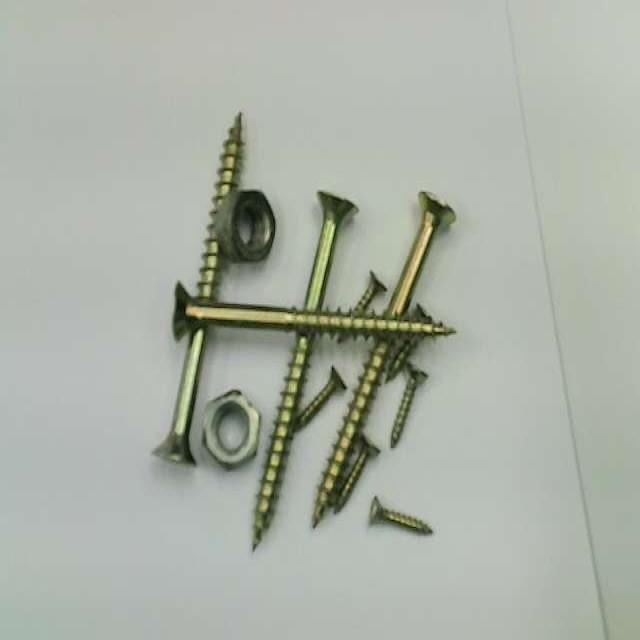Parafuso: (173, 283, 454, 339), (314, 339, 389, 524), (253, 329, 312, 548), (387, 193, 454, 317), (198, 112, 242, 299), (153, 329, 206, 464), (304, 192, 357, 311), (294, 365, 345, 431), (335, 435, 379, 511), (390, 363, 426, 447), (370, 496, 432, 533), (386, 337, 421, 381), (355, 271, 386, 312), (414, 305, 431, 320)
Porca: (203, 389, 260, 468), (218, 191, 275, 261)
